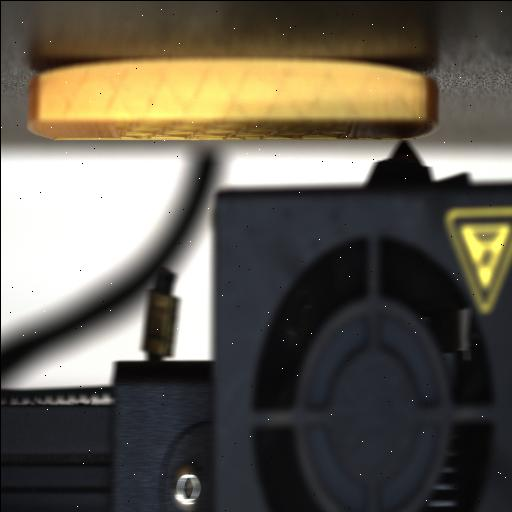warp: (22, 52, 138, 92), (352, 50, 448, 90), (496, 509, 512, 512)
